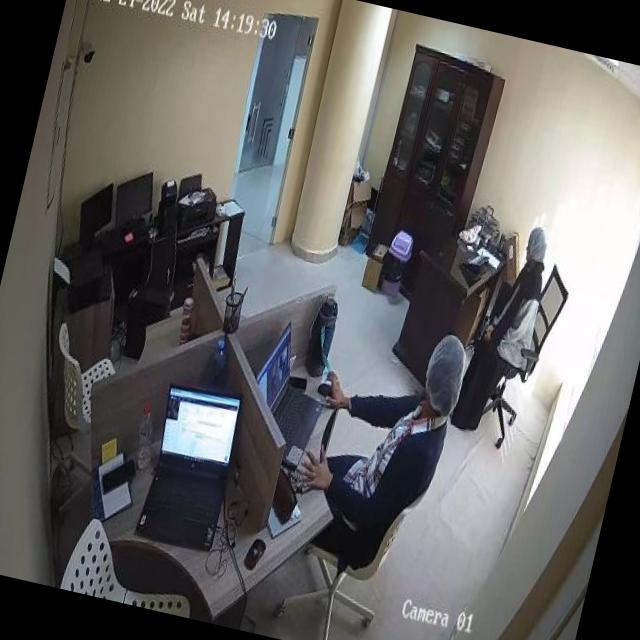hairnet: (419, 336, 470, 422), (524, 224, 552, 266)
